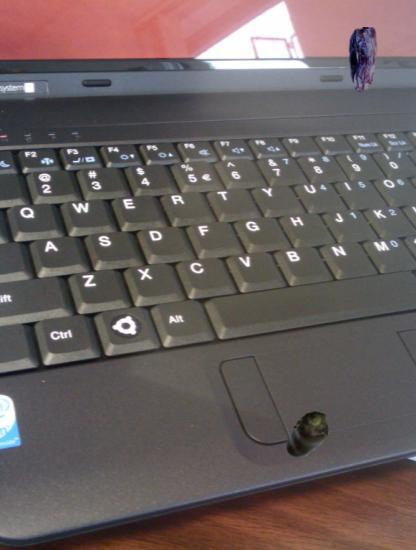Dates: (330, 27, 396, 93)
Eggplant: (280, 407, 337, 464)
